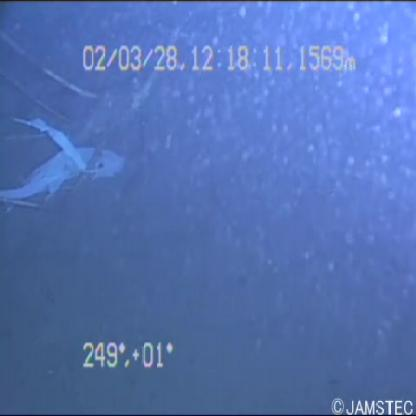Rác: (1, 90, 130, 234)
